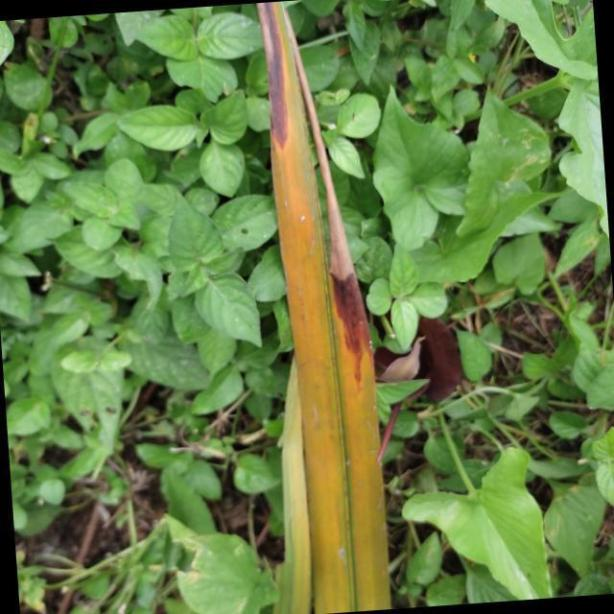Megnesium: (251, 0, 387, 609)
